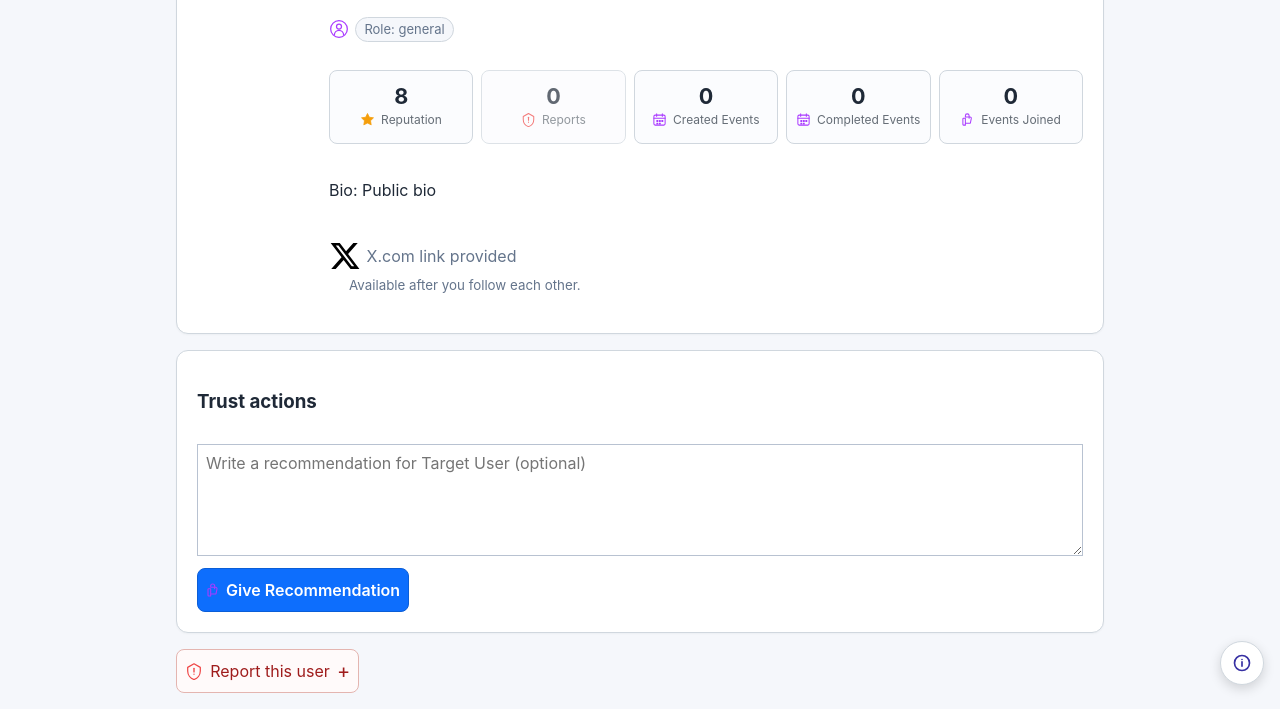
Test: ProfilePage › shows rate limit message when Edge Function returns 429
This screenshot has width=1280, height=709.
(page scrolled)
Click the button "Give Recommendation" at (303, 590), box [197,568,409,612]
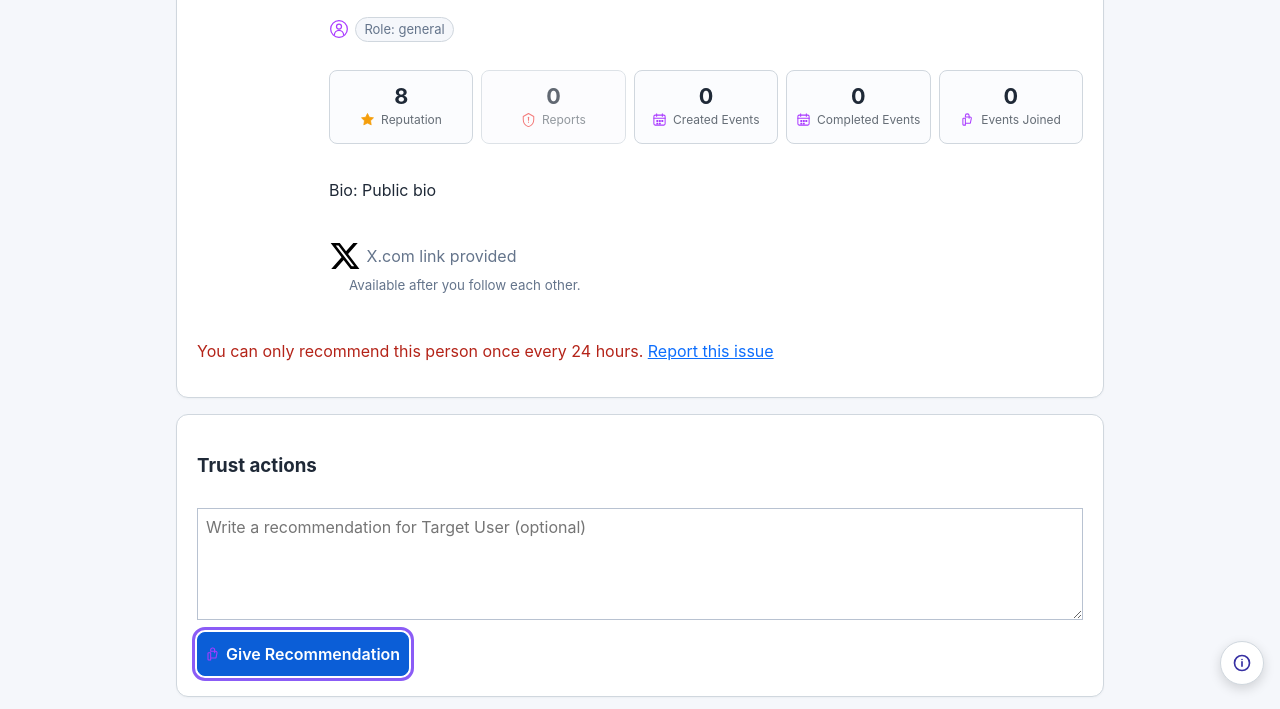
Check: the text "You can only recommend this person once every 24 hours." is shown, box [197,341,643,361]
